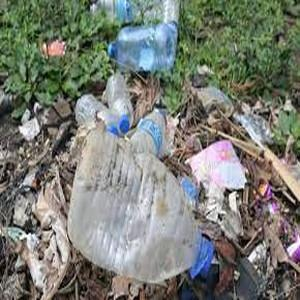Plastic: (99, 24, 185, 74), (129, 107, 163, 155), (107, 71, 132, 134), (89, 1, 139, 24)
